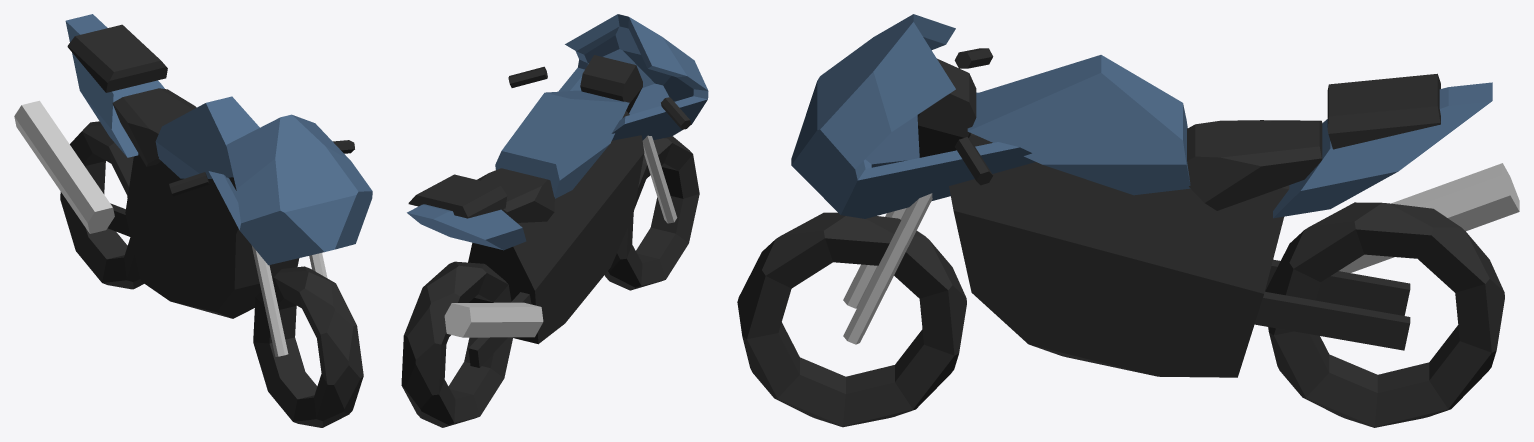
File: motorcycle%2c_suzuki_sv650.glb
The picture shows the model from 3 angles, left to right: view 1: azimuth 30°, elevation 25°; view 2: azimuth 150°, elevation 25°; view 3: azimuth 270°, elevation 25°; orthographic projection. The views are drawn at different scales.
Parts seen in each view (by area): view 1: test.008_test.041, test.006_test.028, test.005_test.025, test.003_test.025, test_test.001, test.007_test.029, test.004_test.014, test.002_test.010, test.001_test.017, test.012_test.047, test.009_test.042, Cube_Cube.004; view 2: test.006_test.028, test.003_test.025, test.008_test.041, test_test.001, test.005_test.025, test.007_test.029, test.001_test.017, test.004_test.014, test.002_test.010, test.011_test.046, test.012_test.047, Cube_Cube.004 (+2 smaller); view 3: test.006_test.028, test.003_test.025, test.005_test.025, test.008_test.041, test_test.001, test.002_test.010, test.001_test.017, test.004_test.014, Cube.002_Cube.004, test.007_test.029, test.011_test.046, Cube_Cube.004 (+3 smaller).
Part boxes in pixels (x1=…): test.008_test.041: x1=208, y1=114, x2=372, y2=265; test.006_test.028: x1=125, y1=153, x2=299, y2=318; test.005_test.025: x1=253, y1=266, x2=363, y2=427; test.003_test.025: x1=60, y1=121, x2=143, y2=289; test_test.001: x1=155, y1=96, x2=259, y2=178; test.007_test.029: x1=14, y1=100, x2=114, y2=233; test.004_test.014: x1=67, y1=24, x2=167, y2=92; test.002_test.010: x1=112, y1=88, x2=196, y2=166; test.001_test.017: x1=65, y1=14, x2=164, y2=157; test.012_test.047: x1=251, y1=245, x2=288, y2=356; test.009_test.042: x1=169, y1=172, x2=209, y2=196; Cube_Cube.004: x1=108, y1=203, x2=130, y2=236; test.006_test.028: x1=468, y1=111, x2=644, y2=344; test.003_test.025: x1=401, y1=261, x2=513, y2=427; test.008_test.041: x1=558, y1=14, x2=708, y2=140; test_test.001: x1=495, y1=90, x2=629, y2=198; test.005_test.025: x1=604, y1=136, x2=699, y2=290; test.007_test.029: x1=444, y1=302, x2=543, y2=337; test.001_test.017: x1=407, y1=204, x2=526, y2=250; test.004_test.014: x1=408, y1=174, x2=507, y2=218; test.002_test.010: x1=477, y1=168, x2=554, y2=222; test.011_test.046: x1=580, y1=55, x2=642, y2=113; test.012_test.047: x1=642, y1=135, x2=677, y2=223; Cube_Cube.004: x1=468, y1=292, x2=531, y2=367; test.006_test.028: x1=949, y1=132, x2=1289, y2=377; test.003_test.025: x1=1265, y1=202, x2=1504, y2=427; test.005_test.025: x1=737, y1=212, x2=966, y2=427; test.008_test.041: x1=791, y1=14, x2=1035, y2=218; test_test.001: x1=967, y1=55, x2=1190, y2=195; test.002_test.010: x1=1187, y1=120, x2=1322, y2=210; test.001_test.017: x1=1273, y1=82, x2=1492, y2=218; test.004_test.014: x1=1327, y1=73, x2=1440, y2=149; Cube.002_Cube.004: x1=1254, y1=291, x2=1410, y2=350; test.007_test.029: x1=1339, y1=163, x2=1519, y2=272; test.011_test.046: x1=917, y1=58, x2=976, y2=157; Cube_Cube.004: x1=1265, y1=259, x2=1410, y2=315.
Size of the model in its own units: 0.8088 by 1.2 by 2.12.
